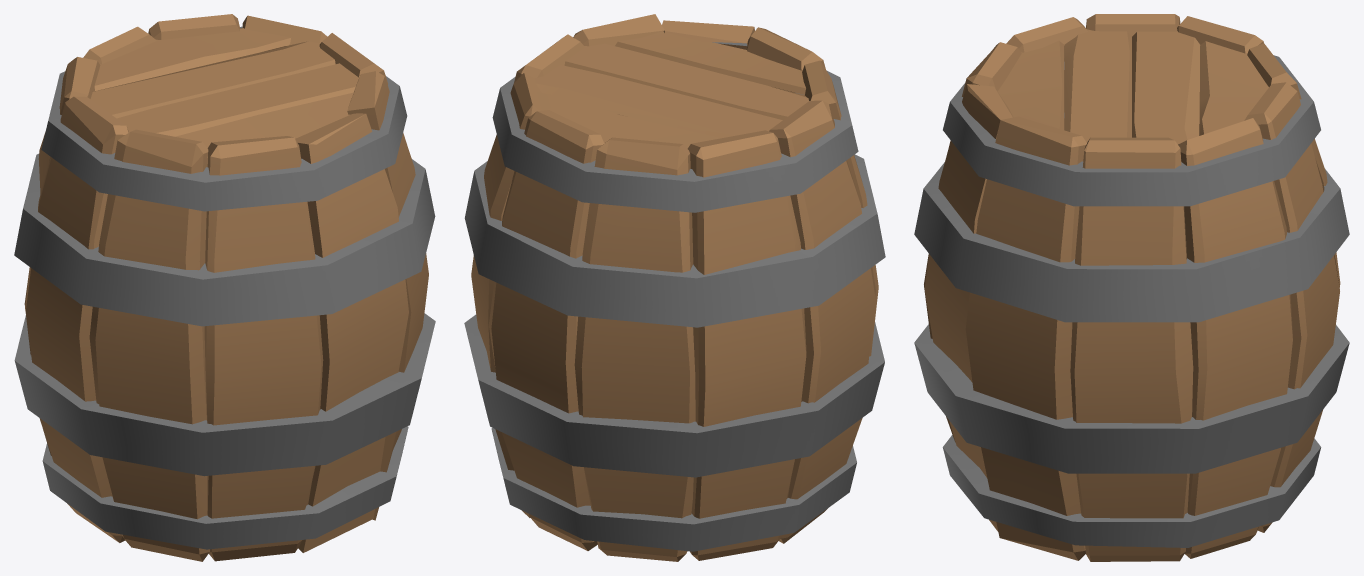
File: Barrel_C.fbx
3 renders of one model, left to right at view 1: azimuth 30°, elevation 25°; view 2: azimuth 150°, elevation 25°; view 3: azimuth 270°, elevation 25°, orthographic.
Parts seen in each view (by area): view 1: Barrel_C; view 2: Barrel_C; view 3: Barrel_C.
Boxes of the visible parts, x1,y1,x2,y2 form: Barrel_C: (14, 14, 435, 561); Barrel_C: (464, 14, 885, 561); Barrel_C: (914, 14, 1349, 561).
Bounding box in the file's own units: 57.27 × 64.27 × 60.13.
